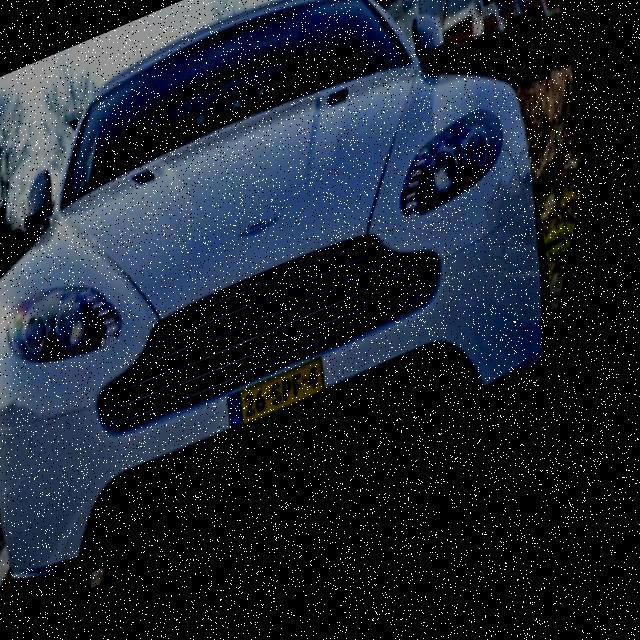license_plate: (230, 349, 366, 454)
